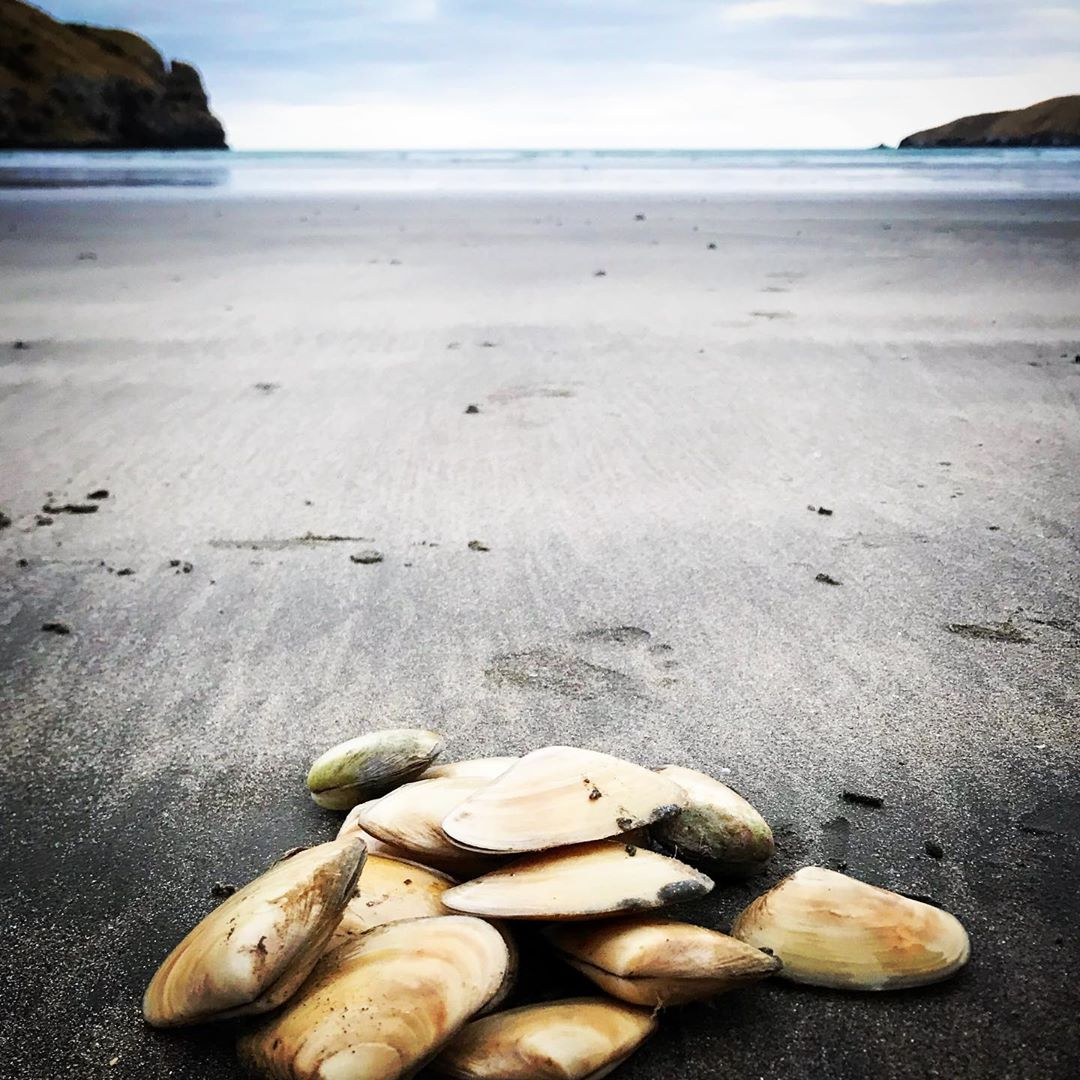tuatua: (139, 832, 373, 1027), (242, 915, 506, 1080), (729, 860, 977, 998), (446, 743, 688, 850), (443, 843, 717, 919), (573, 916, 778, 1009), (439, 999, 651, 1080), (305, 725, 447, 810), (676, 764, 778, 877)
